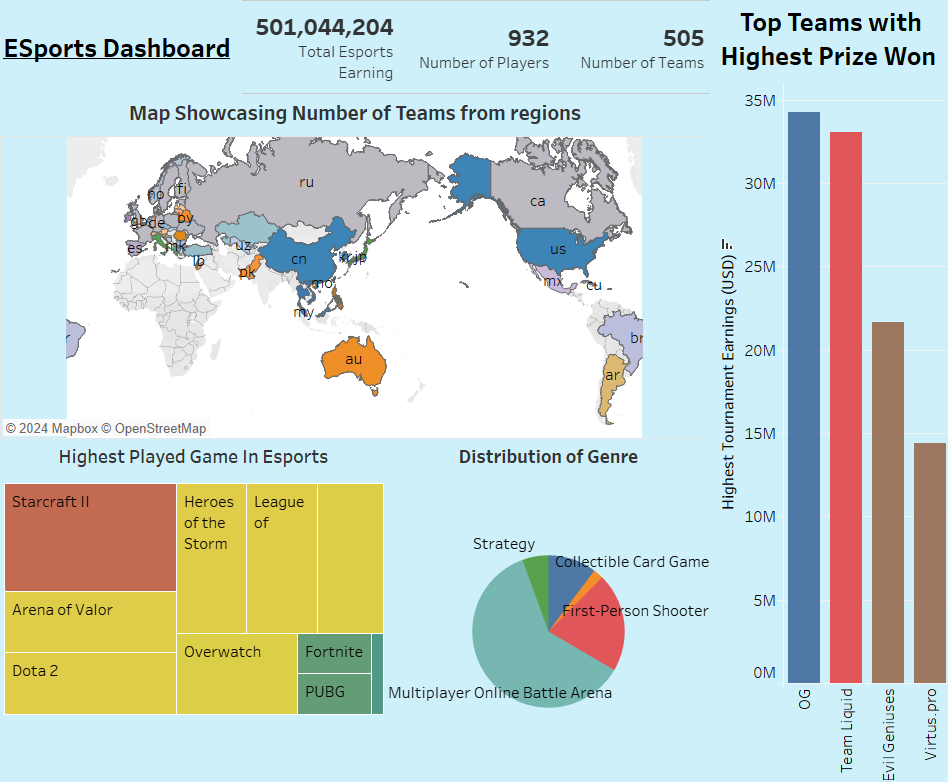

What the dashboard file says about the page in this screenshot:
{"tool":"tableau","page":{"name":"ESports Insights","canvas":[1000,800],"ordinal":0},"visuals":[{"type":"text","box":[8,8,242,94]},{"type":"worksheet","title":"Sheet 12","mark":"Automatic","box":[250,8,468,94]},{"type":"worksheet","title":"Top Teams with Highest Prize Won ","mark":"Automatic","rows":["TotalUSDPrize (highest_earning_teams.csv)"],"cols":["TeamName"],"box":[718,8,242,784]},{"type":"worksheet","title":"Map Showcasing Number of Teams from regions","mark":"Multipolygon","box":[8,102,710,345]},{"type":"worksheet","title":"Highest Played Game & Genre In Esports","mark":"Automatic","box":[8,447,387,345]},{"type":"worksheet","title":"Distribution of Genre","mark":"Pie","box":[395,447,323,345]}]}

Visuals, with their boxes on the page's 1000x800 design canvas (x1, y1, x2, y2). These are canvas units, not pixel positions in the 948x782 screenshot, which may show the page scaled, cropped or inside an application window:
text: (left=8, top=8, right=250, bottom=102)
"Sheet 12" worksheet: (left=250, top=8, right=718, bottom=102)
"Top Teams with Highest Prize Won " worksheet: (left=718, top=8, right=960, bottom=792)
"Map Showcasing Number of Teams from regions" worksheet (Multipolygon marks): (left=8, top=102, right=718, bottom=447)
"Highest Played Game & Genre In Esports" worksheet: (left=8, top=447, right=395, bottom=792)
"Distribution of Genre" worksheet (Pie marks): (left=395, top=447, right=718, bottom=792)
